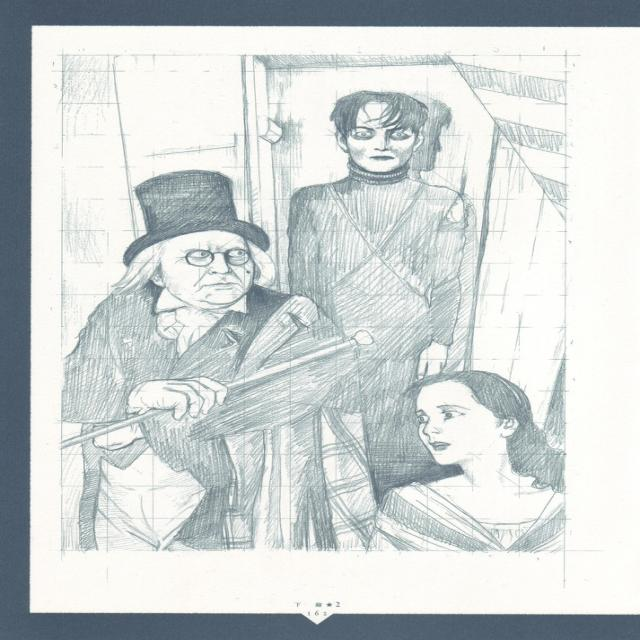Hat: (119, 167, 272, 265)
